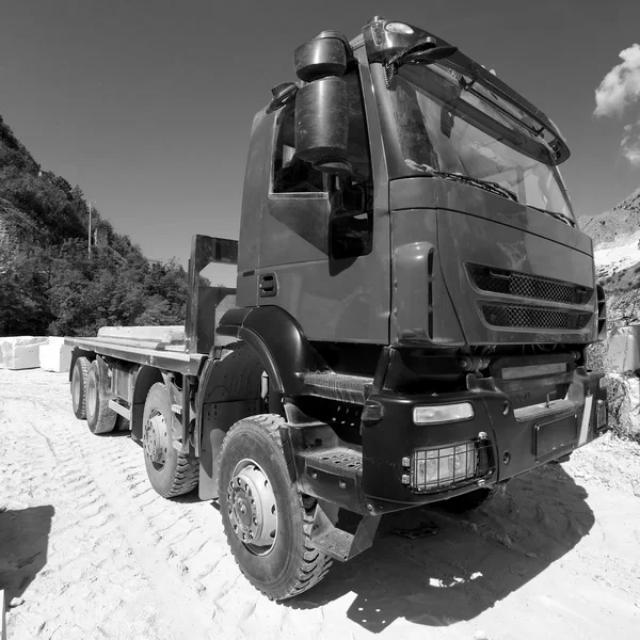Truck: (67, 19, 609, 601)
